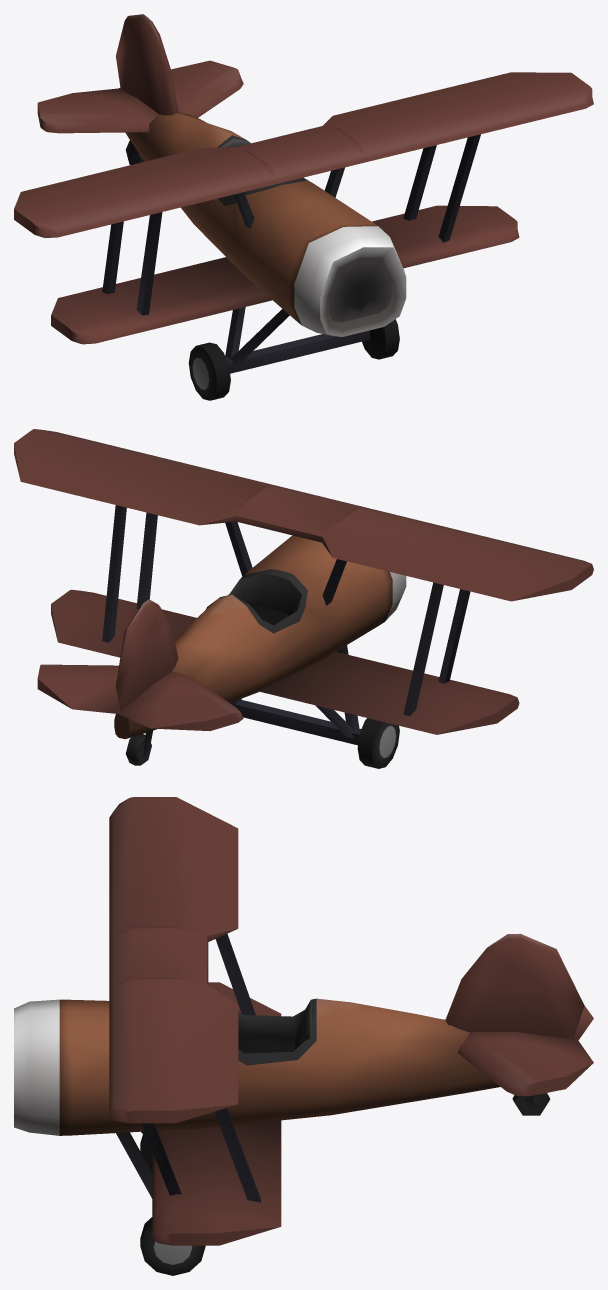
Rendered from biplane-1.glb.
3 views of the same model, one above another, from view 1: azimuth 30°, elevation 25°; view 2: azimuth 150°, elevation 25°; view 3: azimuth 270°, elevation 25° (orthographic). The views are drawn at different scales.
Visible parts, largest first — view 1: biplane-1; view 2: biplane-1; view 3: biplane-1.
Part boxes in pixels (bbox=[...]): biplane-1: bbox=[14, 14, 593, 400]; biplane-1: bbox=[14, 429, 593, 768]; biplane-1: bbox=[14, 797, 593, 1275].
Size of the model in its own units: 2.15 by 0.9303 by 1.68.
1 material, 1 textured.
